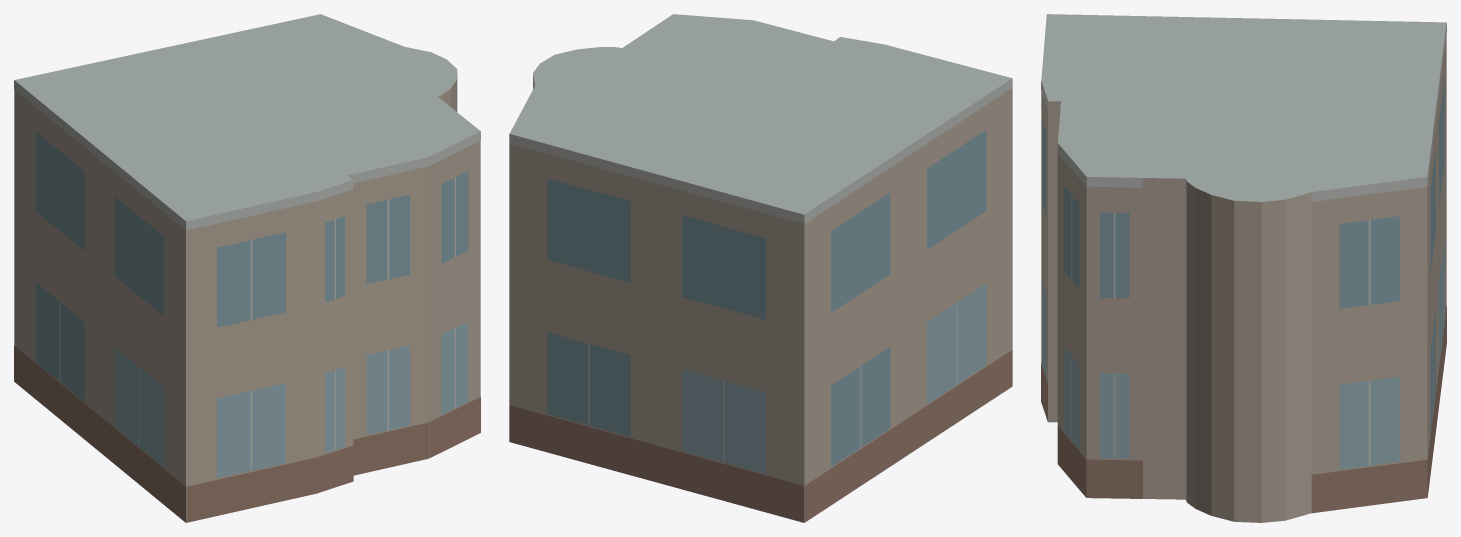
Rendered from survey-upis-33026949.glb.
3 views of the same model, side by side, from view 1: azimuth 30°, elevation 25°; view 2: azimuth 150°, elevation 25°; view 3: azimuth 270°, elevation 25° (orthographic). The views are drawn at different scales.
Visible parts, largest first — view 1: survey-upis-33026949.tmp; view 2: survey-upis-33026949.tmp; view 3: survey-upis-33026949.tmp.
Boxes of the visible parts, x1,y1,x2,y2 form: survey-upis-33026949.tmp: (14, 14, 480, 522); survey-upis-33026949.tmp: (509, 14, 1012, 522); survey-upis-33026949.tmp: (1041, 14, 1446, 522).
Bounding box in the file's own units: 9.98 × 7.95 × 9.11.
